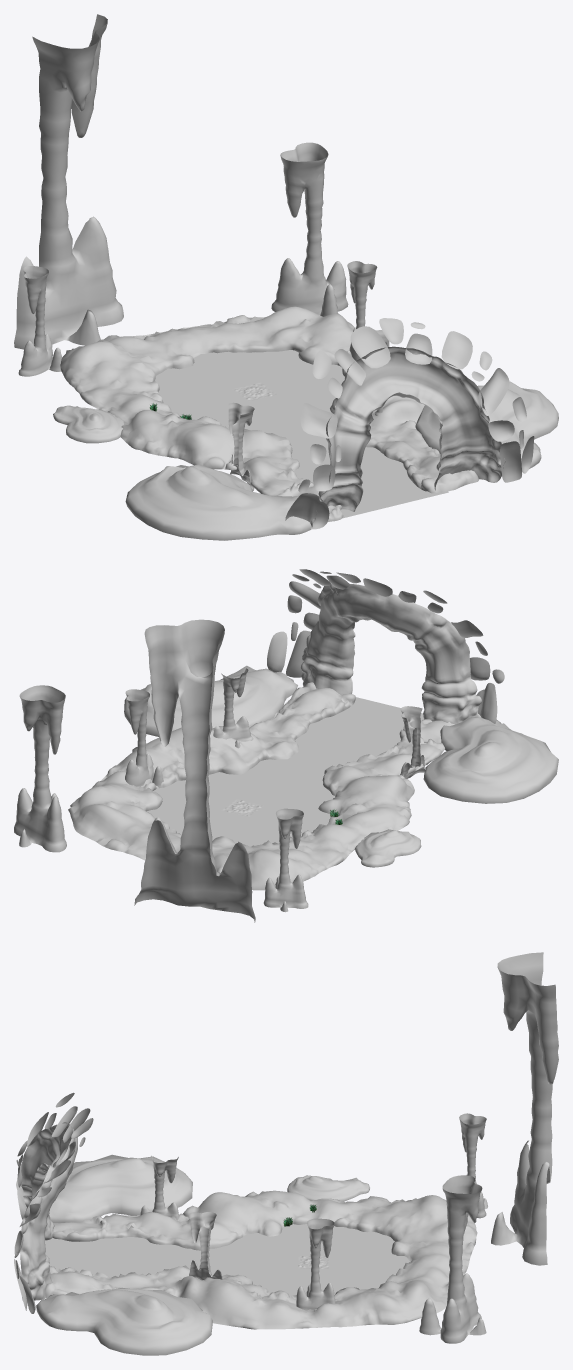
The model's file is mission01_stal_test.fbx.
The picture shows the model from 3 angles, top to bottom: view 1: azimuth 30°, elevation 25°; view 2: azimuth 150°, elevation 25°; view 3: azimuth 270°, elevation 25°; orthographic projection. The views are drawn at different scales.
Visible parts, largest first — view 1: slag_back, map, sol, polySurface3, courronne_sortie, Ilot_around_lvl_2, Ilot_around_lvl_3, Ilot_around_lvl_4; view 2: slag_back, map, sol, polySurface3, Ilot_around_lvl_2, courronne_sortie, Ilot_around_lvl_3, Ilot_around_lvl_4, marker; view 3: map, slag_back, sol, Ilot_around_lvl_3, Ilot_around_lvl_2, polySurface3, courronne_sortie, Ilot_around_lvl_4.
Boxes of the visible parts, left/top/right/bottom form: slag_back: left=14, top=14, right=389, bottom=490; map: left=60, top=306, right=478, bottom=522; sol: left=154, top=350, right=448, bottom=518; polySurface3: left=310, top=346, right=505, bottom=527; courronne_sortie: left=285, top=318, right=534, bottom=529; Ilot_around_lvl_2: left=125, top=464, right=311, bottom=540; Ilot_around_lvl_3: left=415, top=381, right=558, bottom=476; Ilot_around_lvl_4: left=53, top=405, right=123, bottom=443; slag_back: left=14, top=619, right=424, bottom=922; map: left=68, top=682, right=454, bottom=890; sol: left=146, top=697, right=423, bottom=846; polySurface3: left=300, top=584, right=481, bottom=724; Ilot_around_lvl_2: left=423, top=717, right=558, bottom=803; courronne_sortie: left=267, top=569, right=504, bottom=723; Ilot_around_lvl_3: left=124, top=665, right=297, bottom=736; Ilot_around_lvl_4: left=355, top=829, right=421, bottom=867; marker: left=221, top=799, right=263, bottom=817; map: left=45, top=1190, right=477, bottom=1329; slag_back: left=140, top=952, right=558, bottom=1343; sol: left=45, top=1224, right=410, bottom=1296; Ilot_around_lvl_3: left=36, top=1287, right=212, bottom=1355; Ilot_around_lvl_2: left=49, top=1154, right=192, bottom=1222; polySurface3: left=20, top=1122, right=77, bottom=1300; courronne_sortie: left=14, top=1092, right=93, bottom=1313; Ilot_around_lvl_4: left=287, top=1175, right=369, bottom=1201.
Size of the model in its own units: 1639 by 1094 by 1977.
